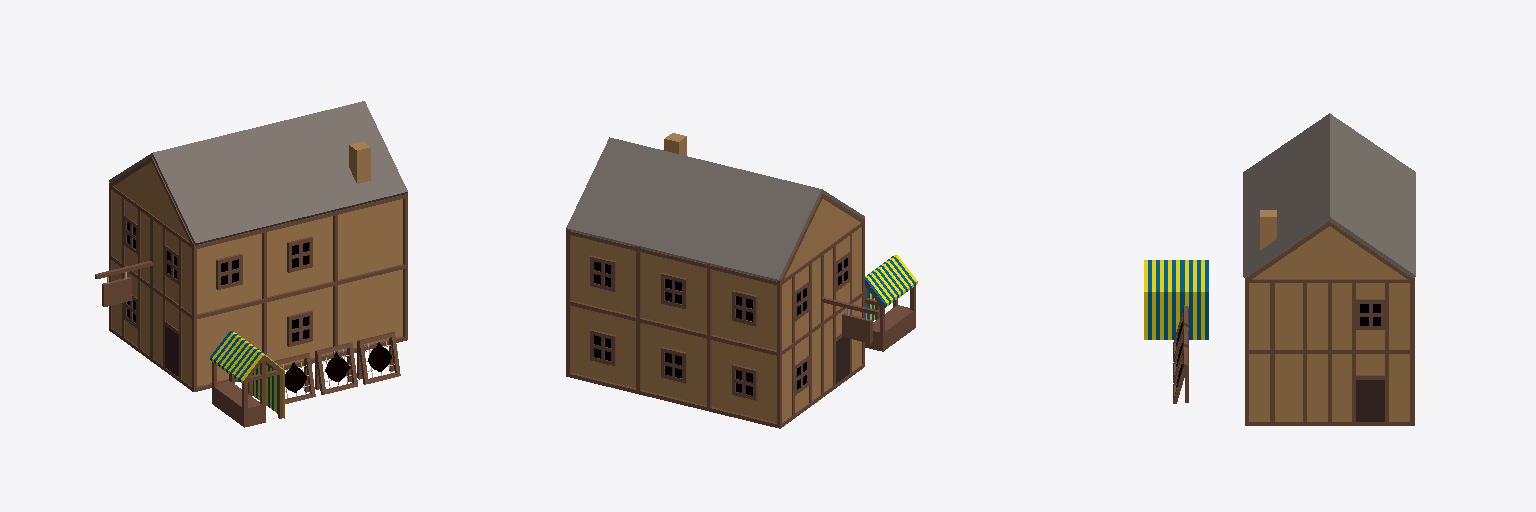
Rendered from timberframedtanner_yellow_blue.obj.
3 views of the same model, side by side, from view 1: azimuth 30°, elevation 25°; view 2: azimuth 150°, elevation 25°; view 3: azimuth 270°, elevation 25° (orthographic).
Parts seen in each view (by area): view 1: Cube.005, Cube.007_Cube.011, Cylinder.001_Cylinder.008, Cylinder.003_Cylinder.001, Cylinder.004_Cylinder.009, Cube.011_Cube.015, Cube.018_Cube.016, Cube.056_Cube.081, Cube.001_Cube.058, Cube.013_Cube.080, Cube.006_Cube.010, Cube.026_Cube.019 (+7 smaller); view 2: Cube.005, Cube.007_Cube.011, Cube.023_Cube.026, Cube.022_Cube.025, Cube.021_Cube.024, Cube.015_Cube.020, Cube.019_Cube.022, Cube.017_Cube.021, Cube.014_Cube.018, Cube.008, Cube.020_Cube.023, Cube.073_Cube.078 (+6 smaller); view 3: Cube.005, Cube.007_Cube.011, Cube.147_Cube.153, Cube.003, Cube.033, Cube.027, Cube.047_Cube.049, Cube.016_Cube.013, Cube.031, Cube.006_Cube.010, Cube.032, Cylinder.001_Cylinder.008 (+5 smaller).
Part boxes in pixels (left/top/right/bottom): Cube.005: left=112, top=162, right=402, bottom=385; Cube.007_Cube.011: left=109, top=101, right=407, bottom=244; Cylinder.001_Cylinder.008: left=357, top=332, right=400, bottom=384; Cylinder.003_Cylinder.001: left=315, top=342, right=357, bottom=394; Cylinder.004_Cylinder.009: left=274, top=353, right=315, bottom=403; Cube.011_Cube.015: left=195, top=264, right=406, bottom=319; Cube.018_Cube.016: left=195, top=195, right=406, bottom=249; Cube.056_Cube.081: left=216, top=254, right=242, bottom=289; Cube.001_Cube.058: left=287, top=310, right=312, bottom=346; Cube.013_Cube.080: left=287, top=236, right=312, bottom=272; Cube.006_Cube.010: left=349, top=141, right=370, bottom=183; Cube.026_Cube.019: left=192, top=243, right=196, bottom=391; Cube.005: left=571, top=199, right=861, bottom=422; Cube.007_Cube.011: left=566, top=137, right=864, bottom=280; Cube.023_Cube.026: left=567, top=373, right=779, bottom=427; Cube.022_Cube.025: left=567, top=301, right=776, bottom=355; Cube.021_Cube.024: left=567, top=231, right=777, bottom=284; Cube.015_Cube.020: left=732, top=290, right=757, bottom=326; Cube.019_Cube.022: left=661, top=347, right=686, bottom=383; Cube.017_Cube.021: left=590, top=330, right=615, bottom=365; Cube.014_Cube.018: left=661, top=273, right=686, bottom=308; Cube.008: left=590, top=255, right=615, bottom=291; Cube.020_Cube.023: left=732, top=364, right=757, bottom=400; Cube.073_Cube.078: left=842, top=313, right=872, bottom=343; Cube.005: left=1249, top=226, right=1409, bottom=421; Cube.007_Cube.011: left=1243, top=113, right=1415, bottom=277; Cube.147_Cube.153: left=1144, top=292, right=1208, bottom=339; Cube.003: left=1356, top=380, right=1384, bottom=421; Cube.033: left=1356, top=299, right=1384, bottom=329; Cube.027: left=1410, top=277, right=1414, bottom=425; Cube.047_Cube.049: left=1270, top=279, right=1274, bottom=423; Cube.016_Cube.013: left=1248, top=350, right=1410, bottom=353; Cube.031: left=1248, top=422, right=1410, bottom=425; Cube.006_Cube.010: left=1260, top=210, right=1276, bottom=249; Cube.032: left=1248, top=279, right=1410, bottom=282; Cylinder.001_Cylinder.008: left=1173, top=347, right=1188, bottom=403.
Size of the model in its own units: 15.3 by 11.25 by 13.34.